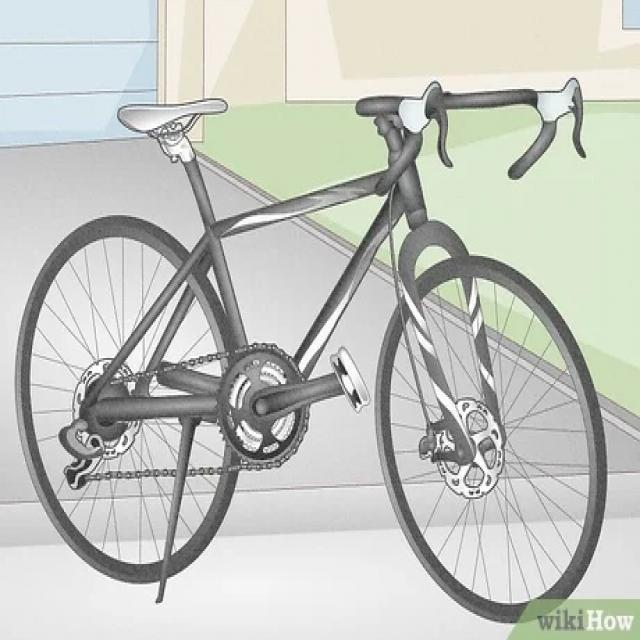bicycle: (8, 61, 615, 624)
